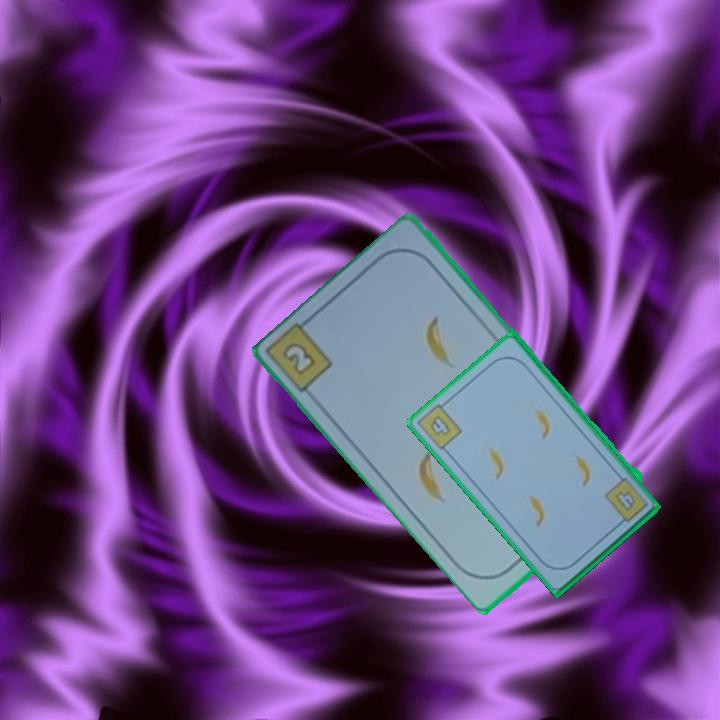2b: (279, 338, 320, 379)
4b: (416, 397, 465, 453), (611, 487, 638, 514)
